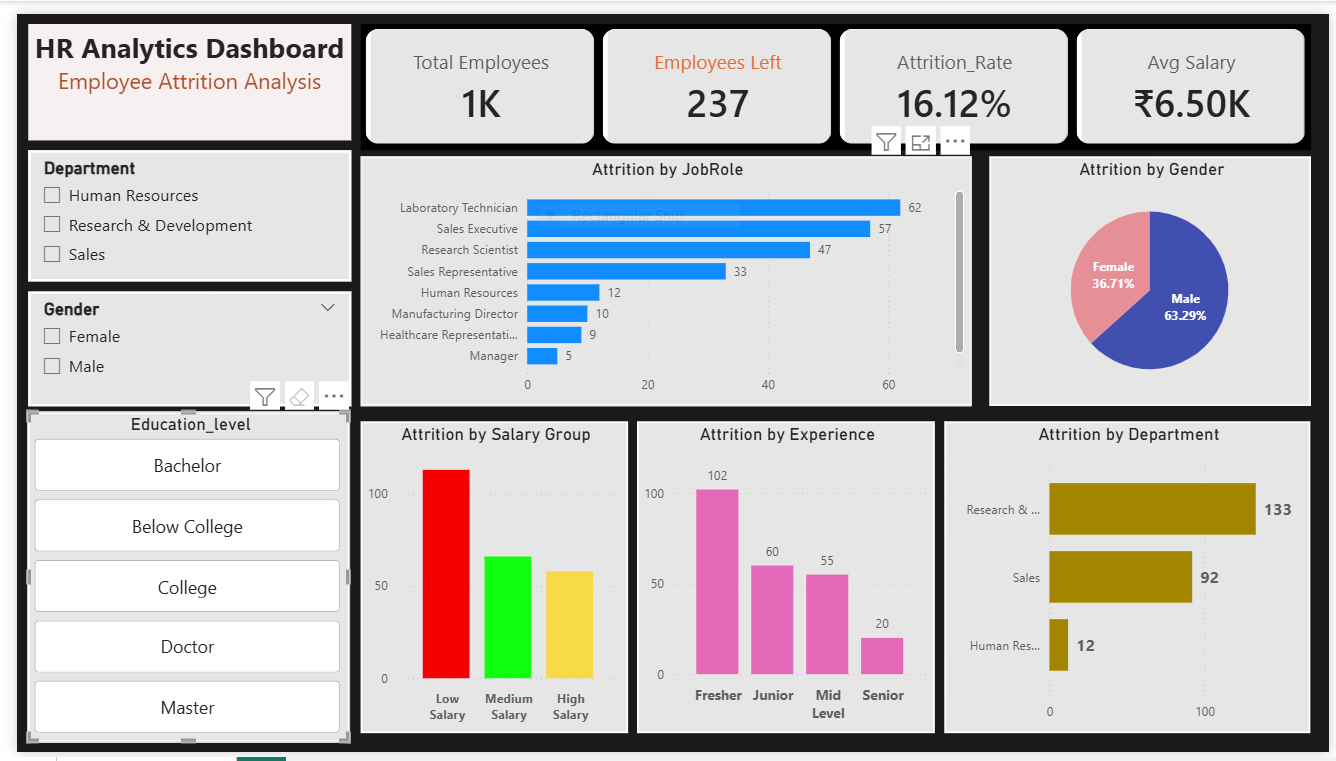

Layout of this report page (visuals, bound fields, positions):
{"tool":"powerbi","page":{"name":"Page 1","canvas":[1280,720],"ordinal":0},"visuals":[{"type":"cardVisual","fields":{"Data":["Employees_Attrition_data.Total Employees","Employees_Attrition_data.Attrition Count","Employees_Attrition_data.Attrition_Rate","Employees_Attrition_data.Avg Salary"]},"box":[335.1,9.5,927,123],"z":0},{"type":"clusteredBarChart","title":"Attrition by Department","fields":{"Category":["Employees_Attrition_data.Department"],"Y":["Employees_Attrition_data.Attrition Count"]},"box":[904.3,399.3,356.8,303.3],"z":1000},{"type":"clusteredBarChart","title":"Attrition by JobRole","fields":{"Category":["Employees_Attrition_data.JobRole"],"Y":["Employees_Attrition_data.Attrition Count"]},"box":[335.1,139.2,595.9,243.2],"z":2000},{"type":"pieChart","title":"Attrition by Gender","fields":{"Category":["Employees_Attrition_data.Gender"],"Y":["Employees_Attrition_data.Attrition Count"]},"box":[948.6,139.2,313.5,243.2],"z":3000},{"type":"columnChart","title":"Attrition by Experience","fields":{"Y":["Employees_Attrition_data.Attrition Count"],"Category":["Employees_Attrition_data.Experience (groups)"]},"box":[605.4,397.3,290.5,304.1],"z":4000},{"type":"columnChart","title":"Attrition by Salary Group","fields":{"Category":["Employees_Attrition_data.Salary Group"],"Y":["Employees_Attrition_data.Attrition Count"]},"box":[335.1,397.3,260.8,304.1],"z":5000},{"type":"slicer","fields":{"Values":["Employees_Attrition_data.Department"]},"box":[10.8,132.4,314.9,128.4],"z":6000},{"type":"slicer","fields":{"Values":["Employees_Attrition_data.Gender"]},"box":[10.8,270.3,314.9,112.2],"z":7000},{"type":"advancedSlicerVisual","fields":{"Values":["Employees_Attrition_data.Education_level"]},"box":[9.5,387.8,314.9,323],"z":8000},{"type":"textbox","box":[10.8,9.5,314.9,113.5],"z":9000}]}

Visuals, with their boxes in screenshot pixels (x1, y1, x2, y2), scaled from the page's 1280x720 canvas onto the 1336x761 screenshot:
cardVisual - Employees_Attrition_data.Total Employees x Employees_Attrition_data.Attrition Count: <bbox>350, 10, 1317, 140</bbox>
"Attrition by Department" clusteredBarChart: <bbox>944, 422, 1316, 743</bbox>
"Attrition by JobRole" clusteredBarChart: <bbox>350, 147, 972, 404</bbox>
"Attrition by Gender" pieChart: <bbox>990, 147, 1317, 404</bbox>
"Attrition by Experience" columnChart: <bbox>632, 420, 935, 741</bbox>
"Attrition by Salary Group" columnChart: <bbox>350, 420, 622, 741</bbox>
slicer - Employees_Attrition_data.Department: <bbox>11, 140, 340, 276</bbox>
slicer - Employees_Attrition_data.Gender: <bbox>11, 286, 340, 404</bbox>
advancedSlicerVisual - Employees_Attrition_data.Education_level: <bbox>10, 410, 339, 751</bbox>
textbox: <bbox>11, 10, 340, 130</bbox>
